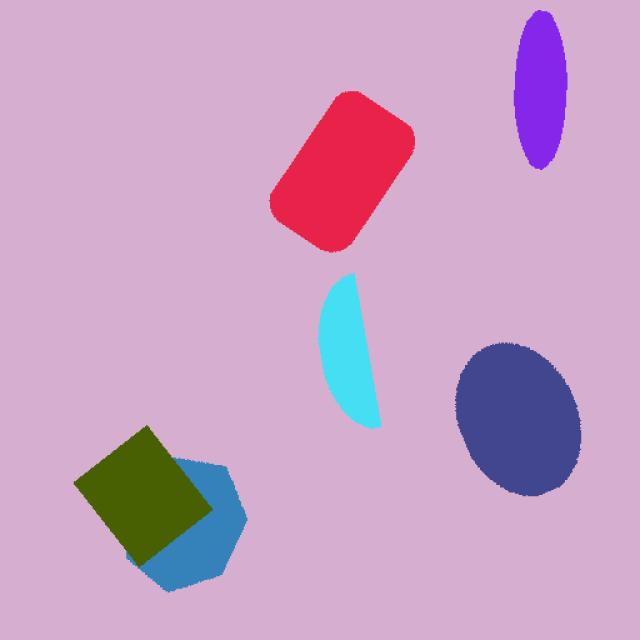Heptagon: (111, 449, 256, 600)
Oval: (443, 331, 592, 511), (498, 0, 594, 178)
Rectangle: (244, 76, 421, 258), (50, 421, 217, 576)
Semicircle: (301, 263, 411, 436)
